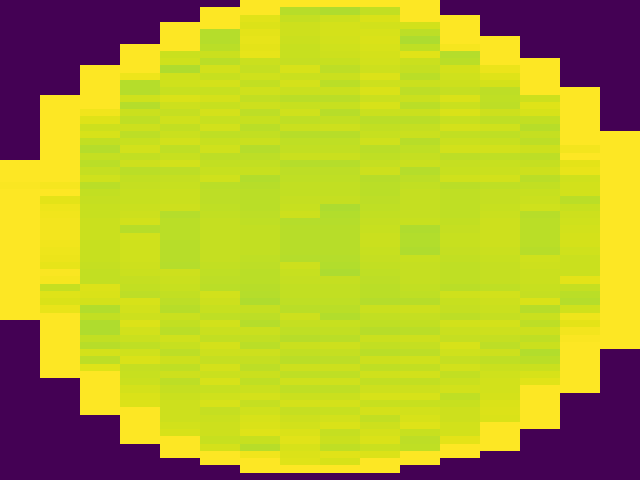sphere: (4, 3, 640, 480)
